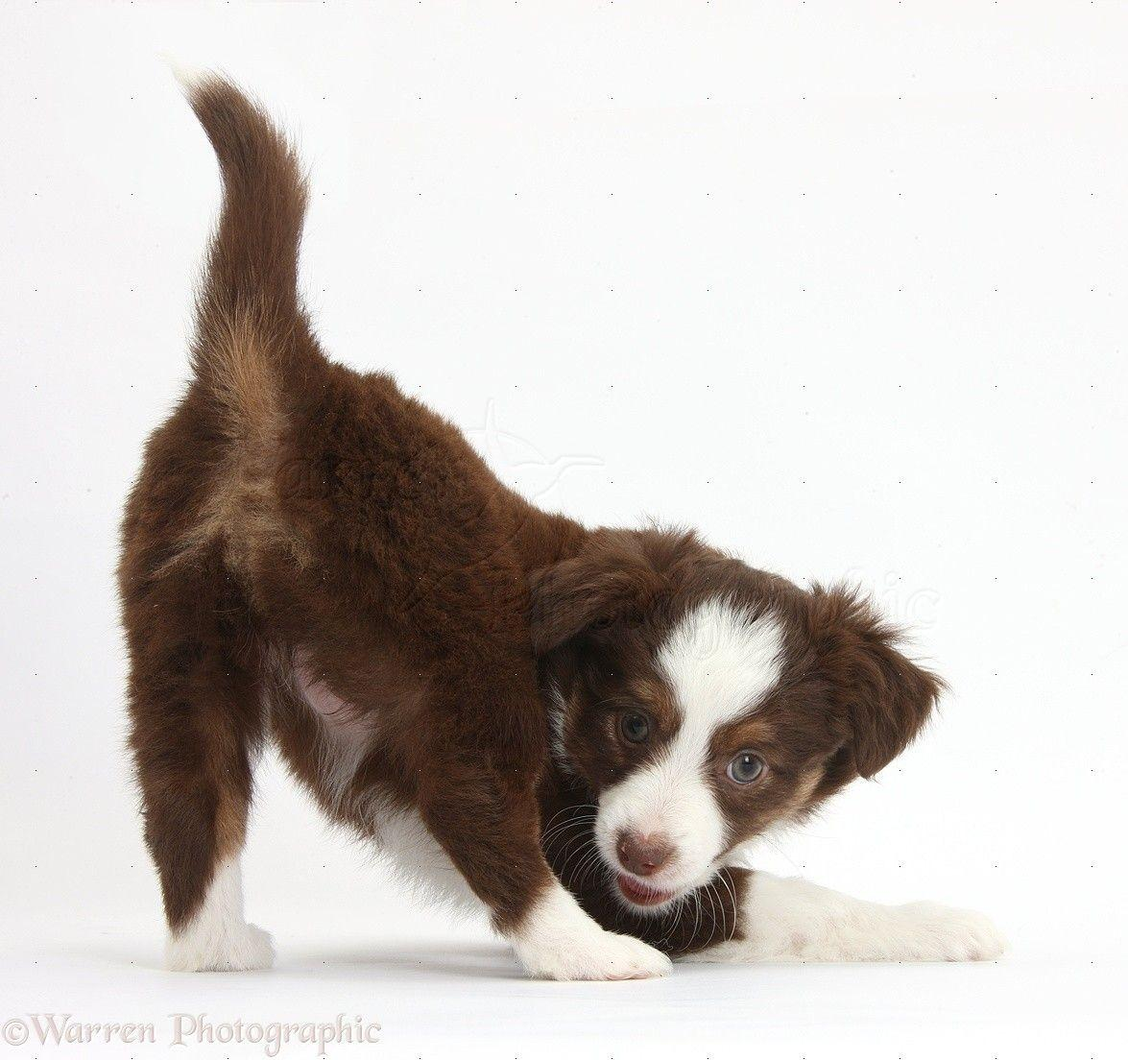puppy-dog: (115, 61, 1010, 983)
